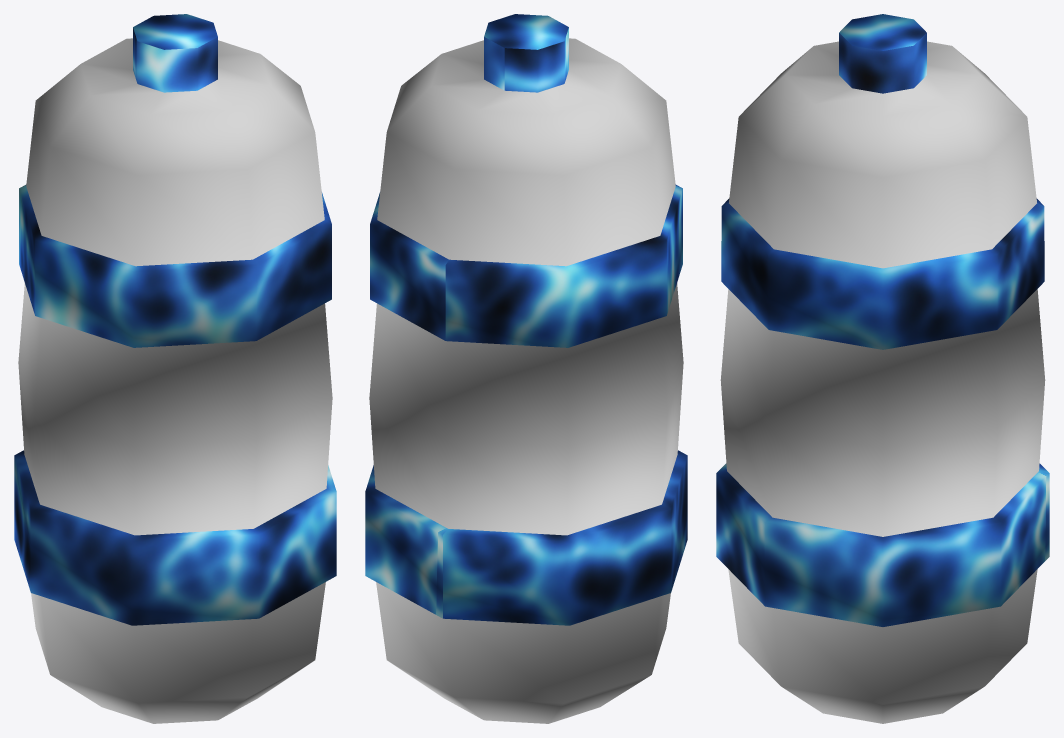
File: bateria.fbx
3 renders of one model, left to right at view 1: azimuth 30°, elevation 25°; view 2: azimuth 150°, elevation 25°; view 3: azimuth 270°, elevation 25°, orthographic.
Parts seen in each view (by area): view 1: Cylinder; view 2: Cylinder; view 3: Cylinder.
Boxes of the visible parts, box(x1,y1,x2,y2) form: Cylinder: box(14, 14, 336, 723); Cylinder: box(365, 14, 687, 723); Cylinder: box(716, 14, 1049, 723).
Bounding box in the file's own units: 1.13 × 2.46 × 1.13.
